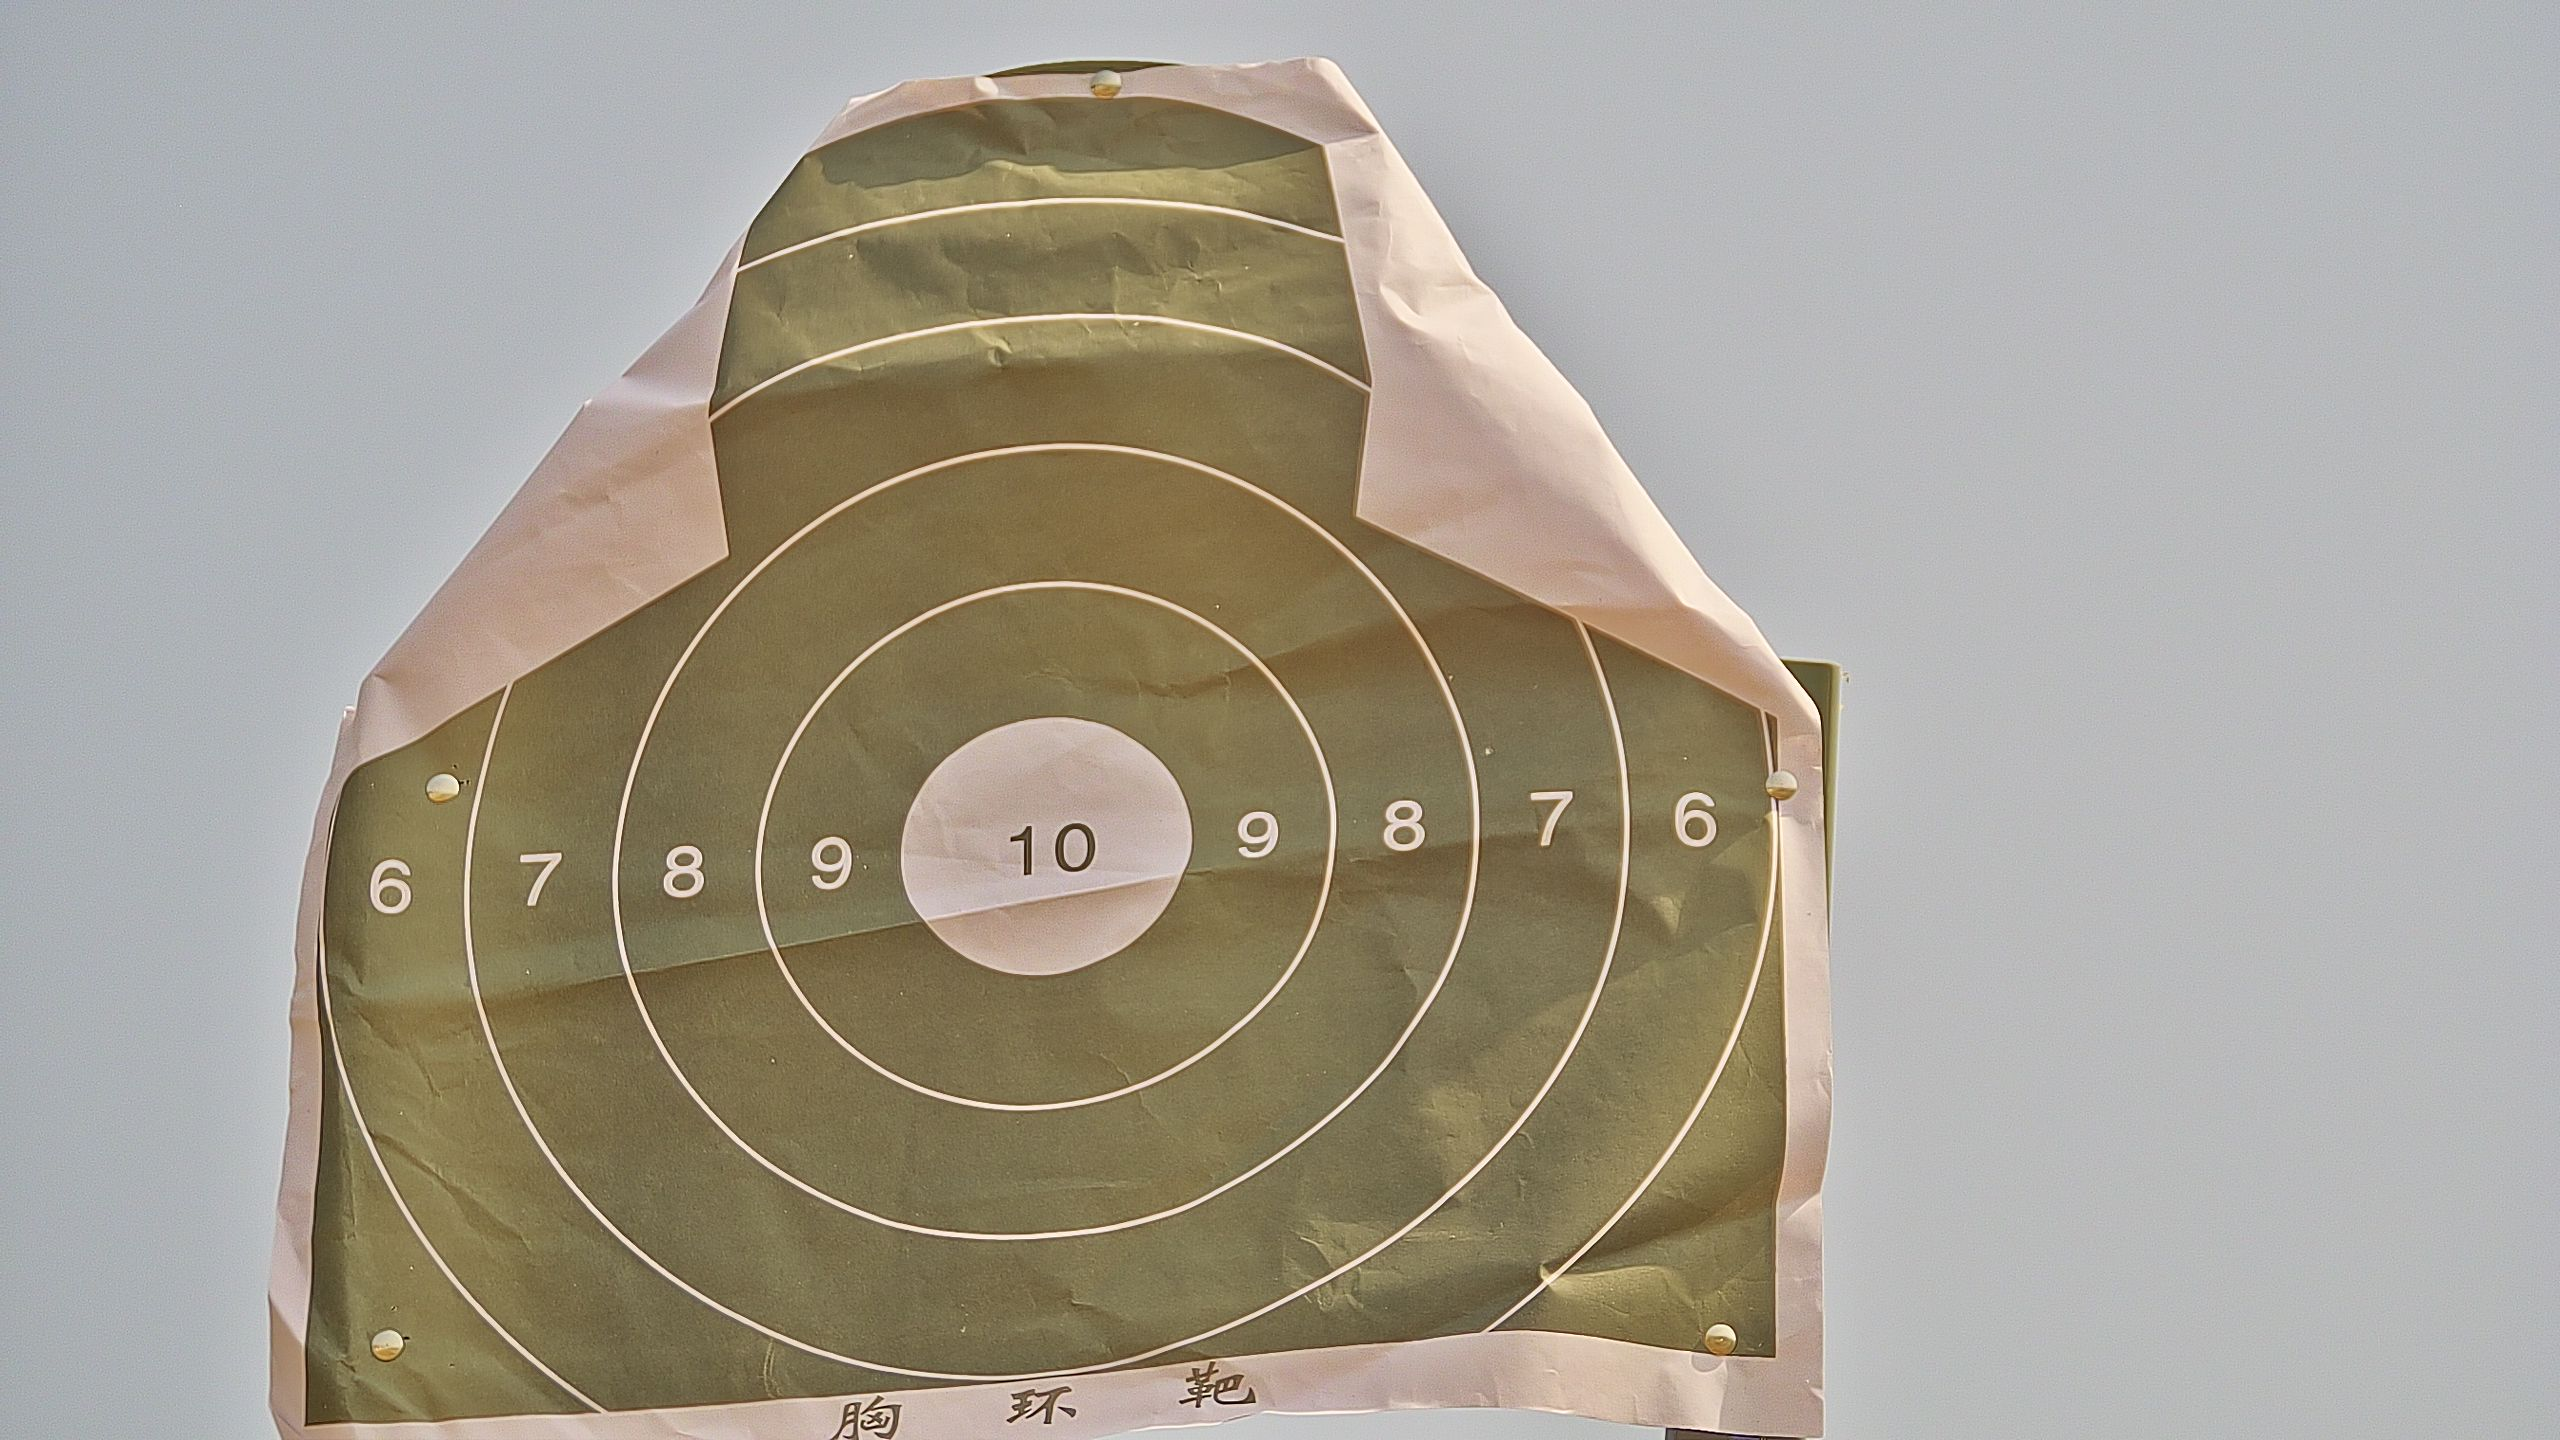kernel: (1043, 849, 1046, 856)
target: (297, 97, 1790, 1440)
ten: (895, 716, 1194, 979)
